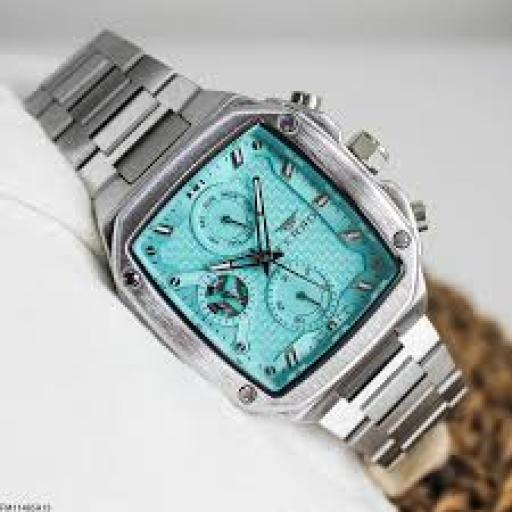KolSaati: (12, 5, 493, 487)
